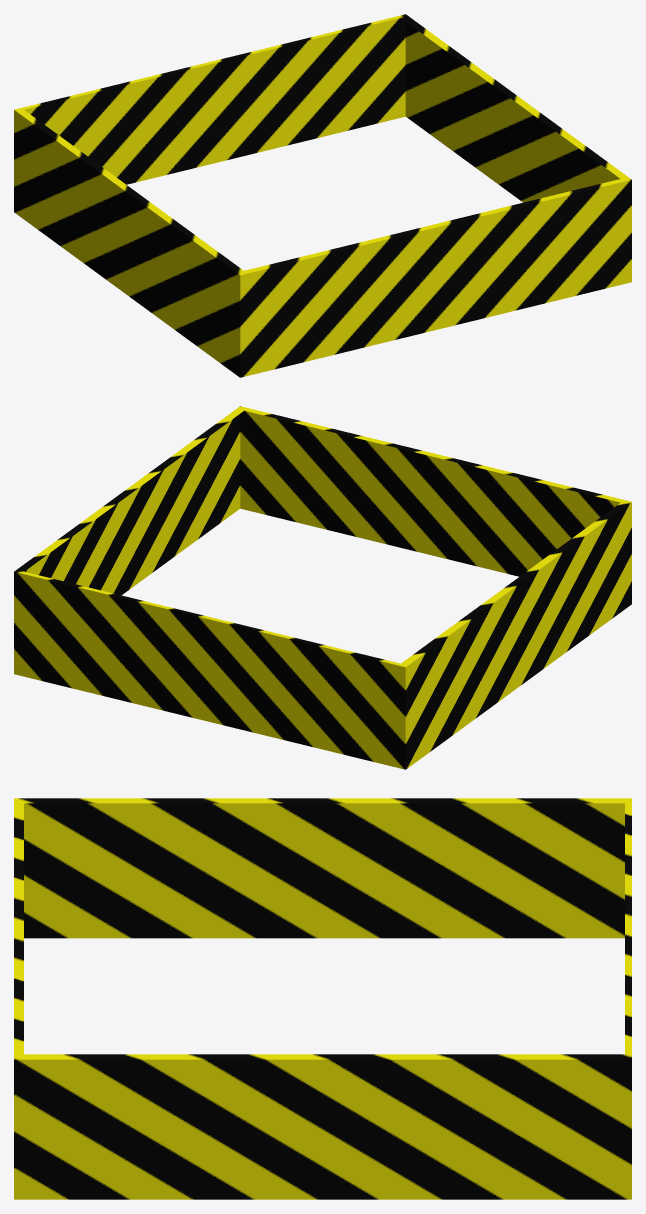
Rendered from geofence.dae.
The picture shows the model from 3 angles, top to bottom: view 1: azimuth 30°, elevation 25°; view 2: azimuth 150°, elevation 25°; view 3: azimuth 270°, elevation 25°; orthographic projection. The views are drawn at different scales.
Parts seen in each view (by area): view 1: Cube; view 2: Cube; view 3: Cube.
Part boxes in pixels (x1,y1,x2,y2): Cube: (14,14,631,377); Cube: (14,406,631,769); Cube: (14,798,631,1199).
Size of the model in its own units: 1 by 1 by 0.25.
1 material, 1 textured.
